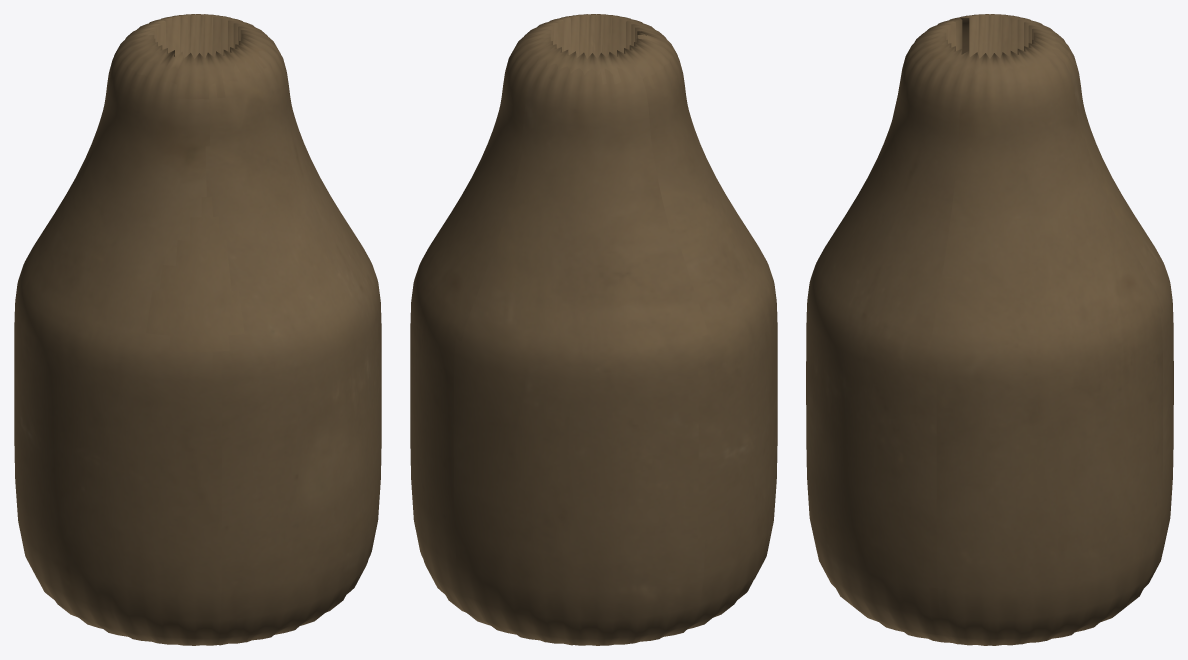
File: vase.glb
3 renders of one model, left to right at view 1: azimuth 30°, elevation 25°; view 2: azimuth 150°, elevation 25°; view 3: azimuth 270°, elevation 25°, orthographic.
Visible parts, largest first — view 1: Cylinder; view 2: Cylinder; view 3: Cylinder.
Boxes of the visible parts, left/top/right/bottom form: Cylinder: left=14, top=14, right=381, bottom=645; Cylinder: left=410, top=14, right=777, bottom=645; Cylinder: left=806, top=14, right=1173, bottom=645.
Size of the model in its own units: 1.98 by 3.46 by 1.98.
Materials: 1 (1 with a texture image).
